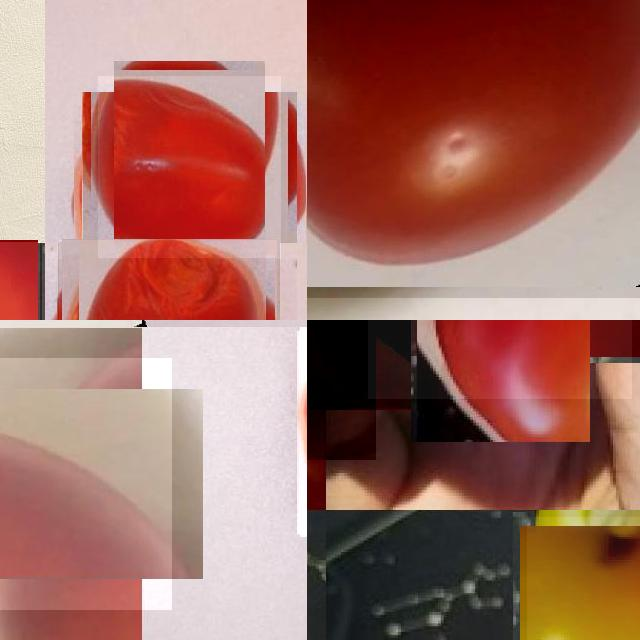1: (98, 76, 281, 259), (59, 240, 277, 320)
Fresh Tomato: (307, 0, 640, 298), (0, 358, 172, 610), (368, 320, 632, 399), (307, 320, 376, 460)
